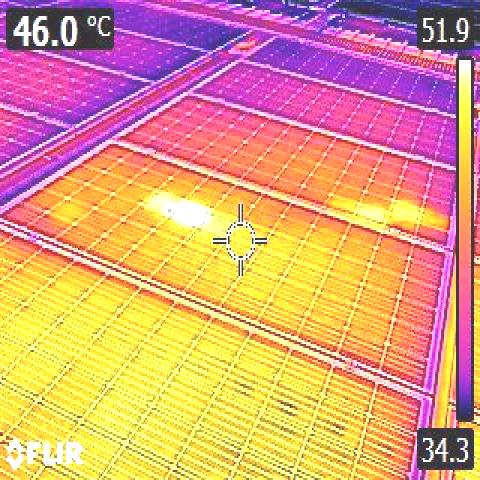fault: (175, 203, 205, 224), (393, 200, 419, 221), (358, 203, 382, 222), (151, 194, 173, 212)
